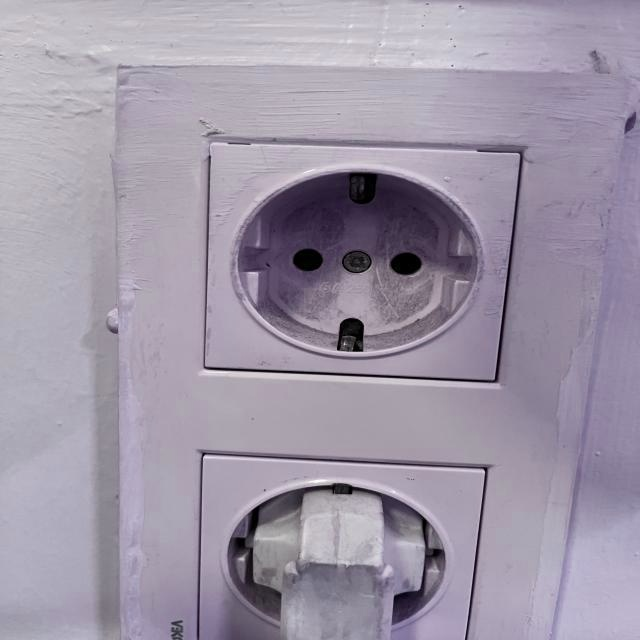pozidriv: (342, 251, 372, 273)
